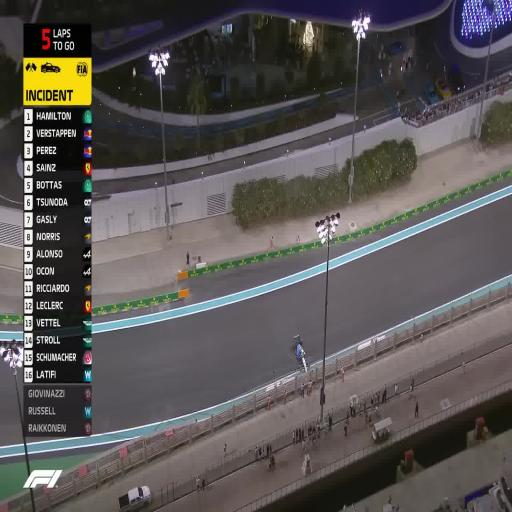f1_car: (290, 334, 312, 378)
